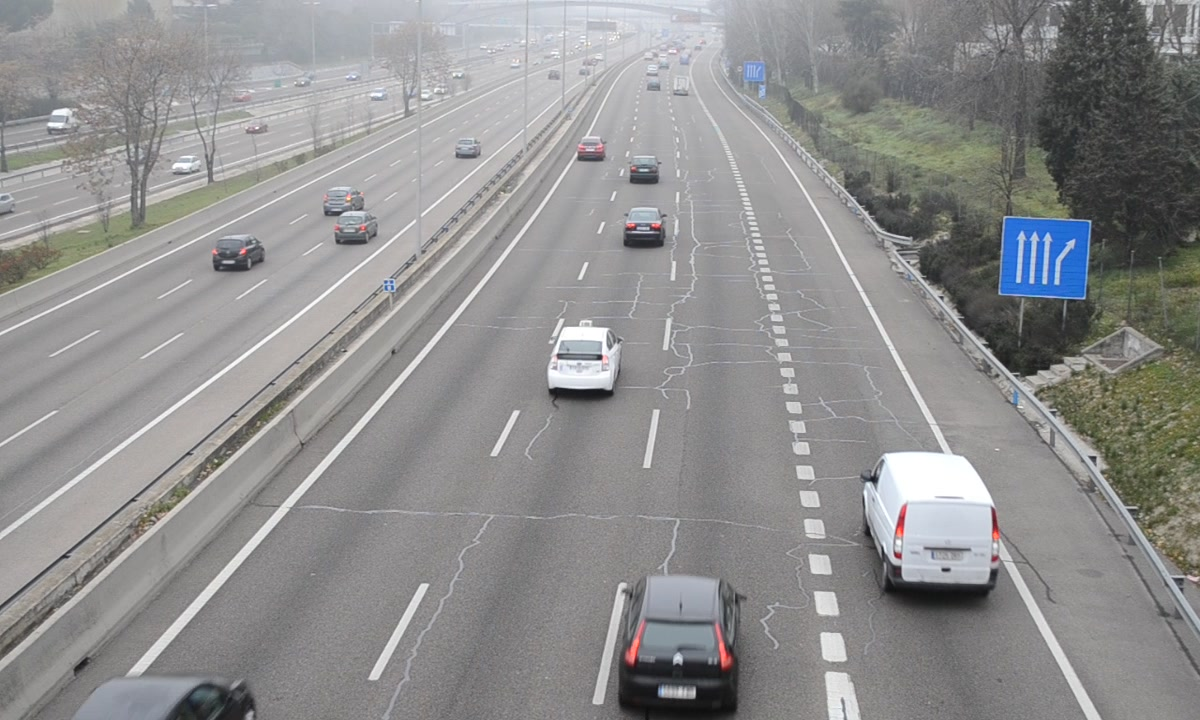car: (620, 573, 741, 714), (549, 324, 619, 390), (623, 207, 666, 245), (628, 152, 660, 183), (576, 134, 606, 161)
van: (862, 452, 1001, 598)
